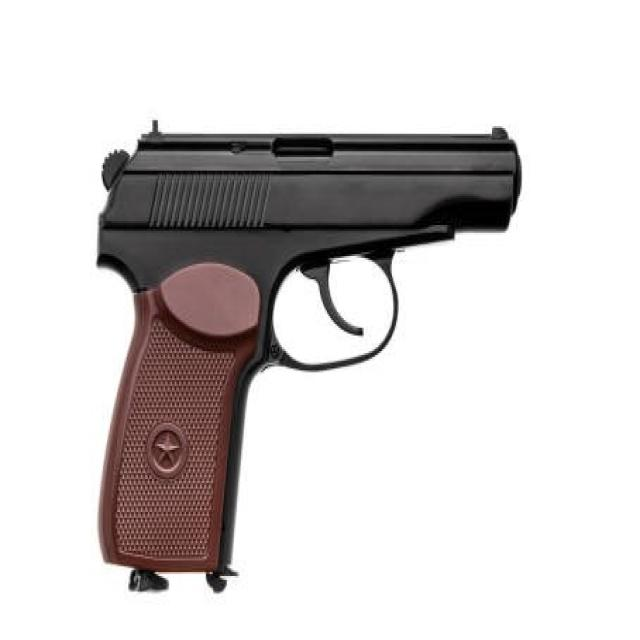pistol: (89, 117, 529, 604)
